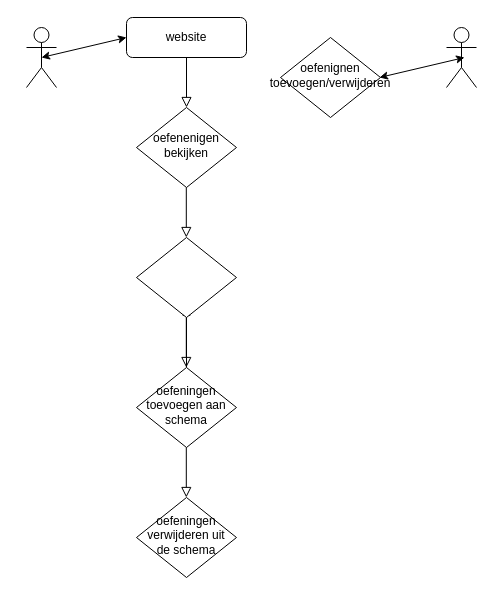
Image size: 495x595. Some labels were removed from this diagram. The shapes that lost their labels are listed below. From the top down, each one's box as (x1, y1, x2, y2) in pixels, then its label:
(26, 26, 56, 88): bezoeker
(446, 26, 476, 88): admin
(136, 236, 236, 318): toegevoegde oeneningen bekijken
